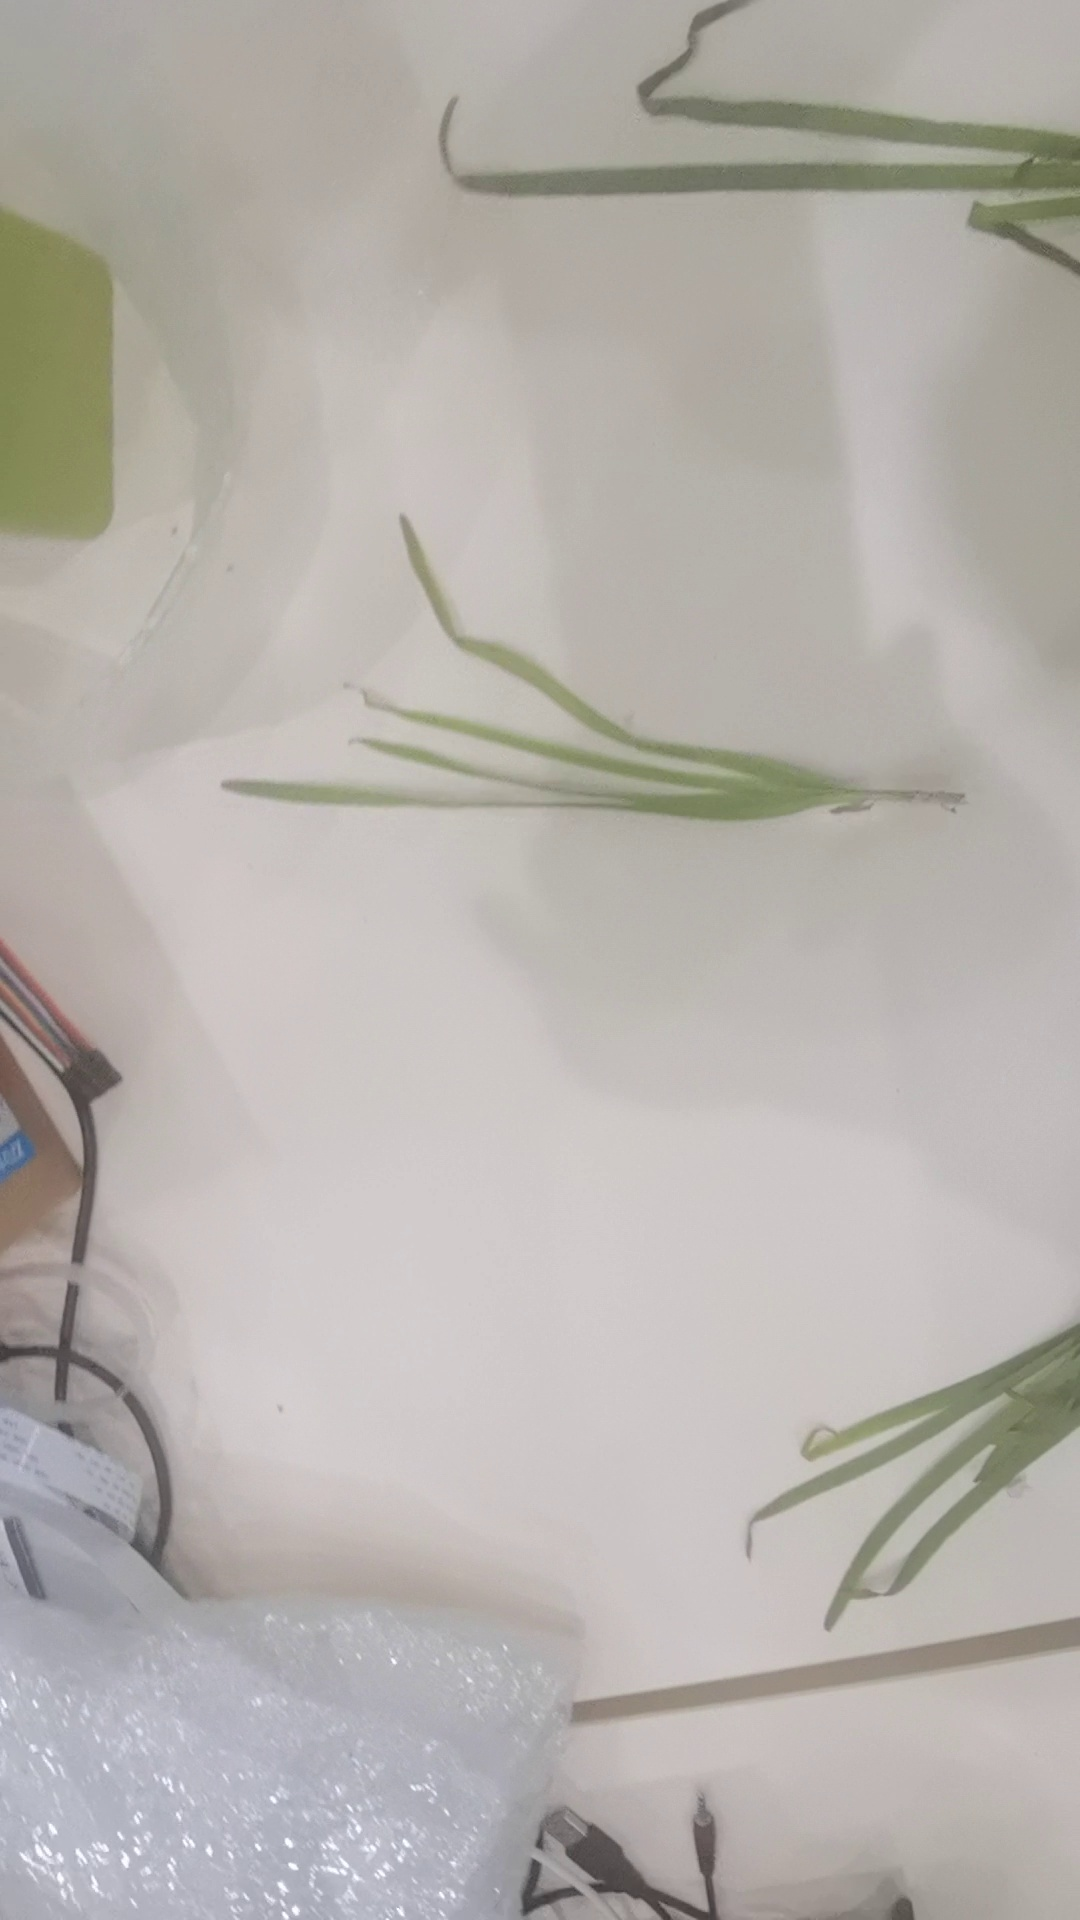chives: (212, 517, 971, 825), (415, 7, 1080, 284)
